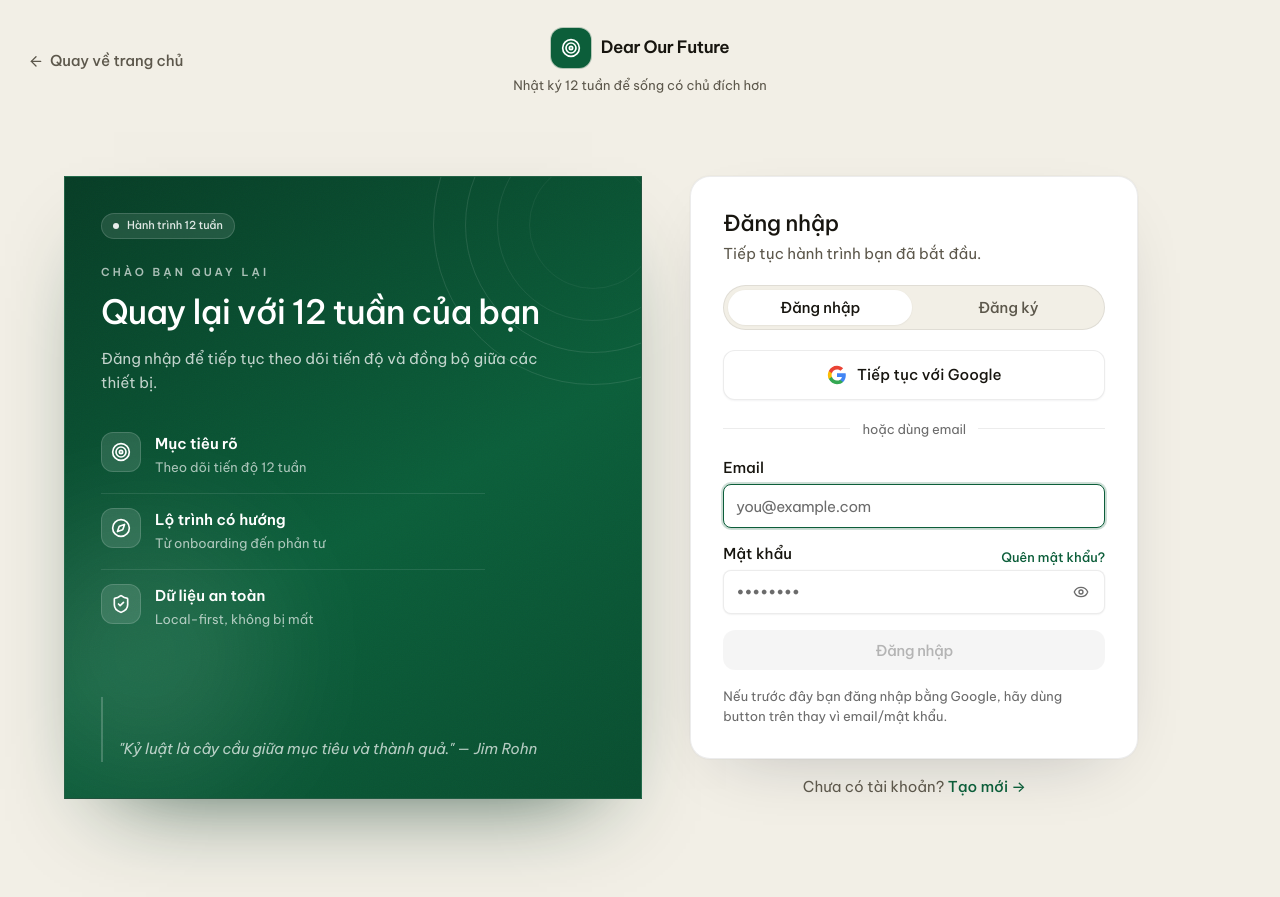
LoginPage › shows actionable missing-account feedback in reset-password card
Click the button "Quên mật khẩu?": [1053, 557] box [1001,548,1105,567]
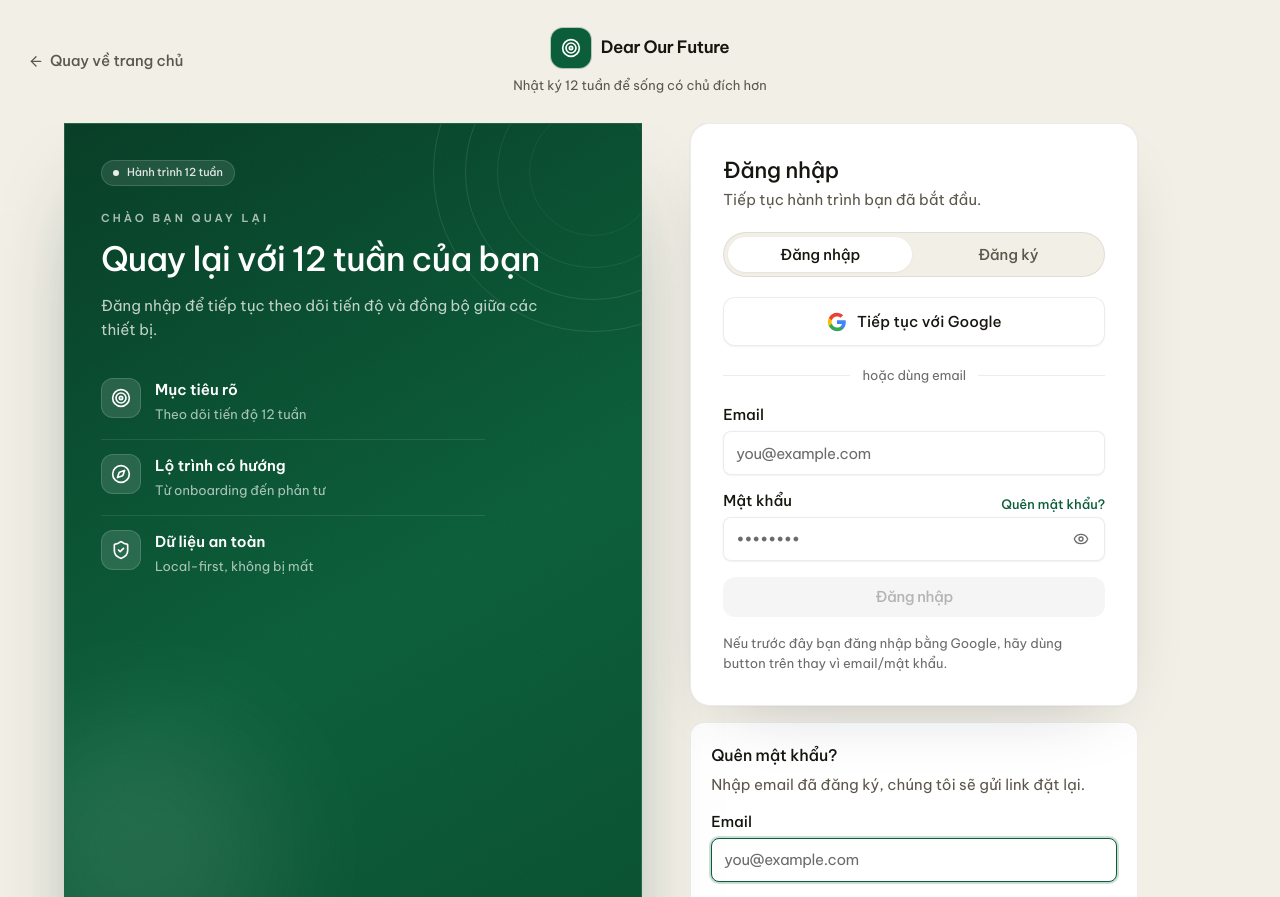
Now the field with id "reset-email" is shown
In the field with id "reset-email": [914, 860] box [711,838,1117,882], type "missing@example.test"
(page scrolled)
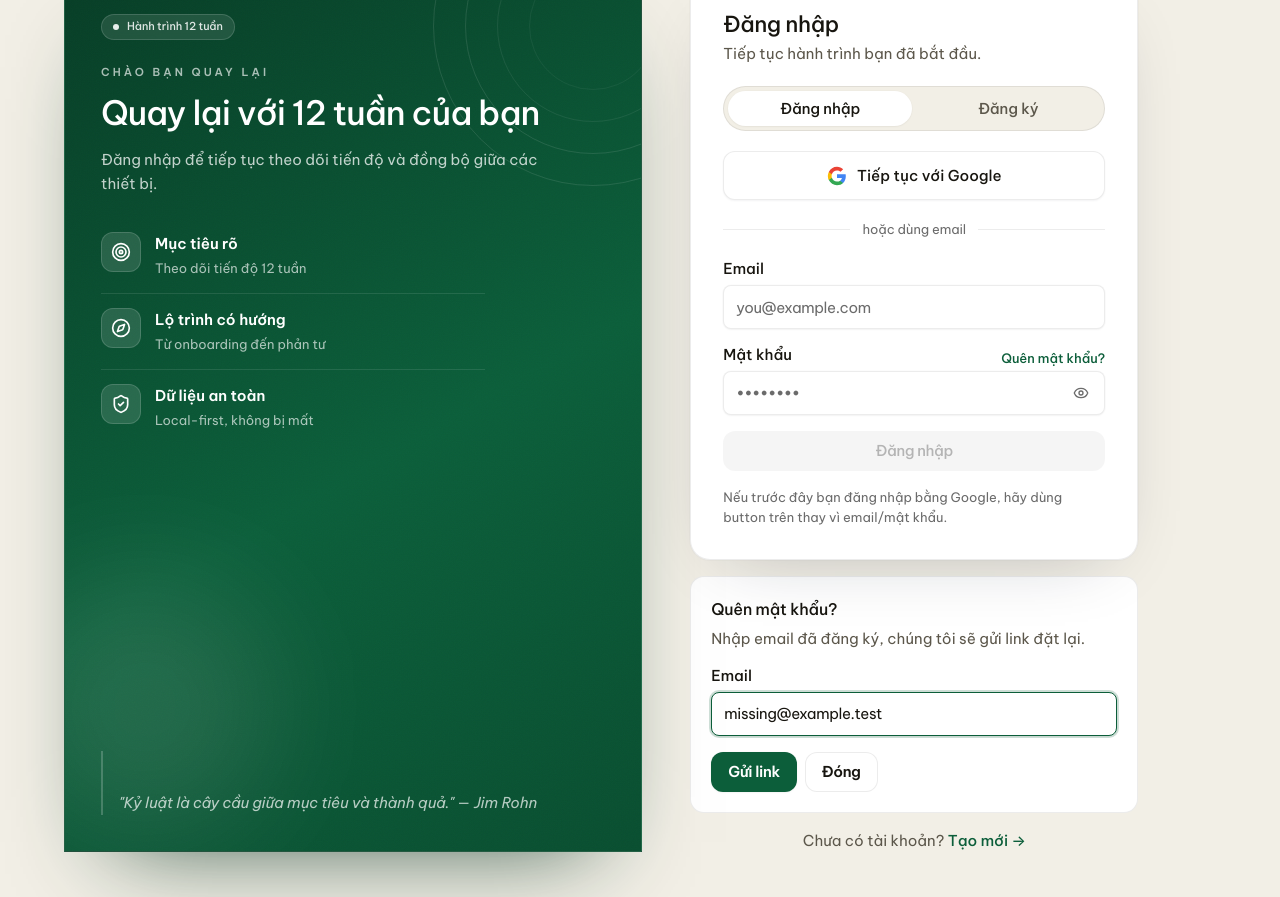
Now the button "Gửi link" is shown
Click the button "Gửi link": [754, 772] box [711,752,797,792]
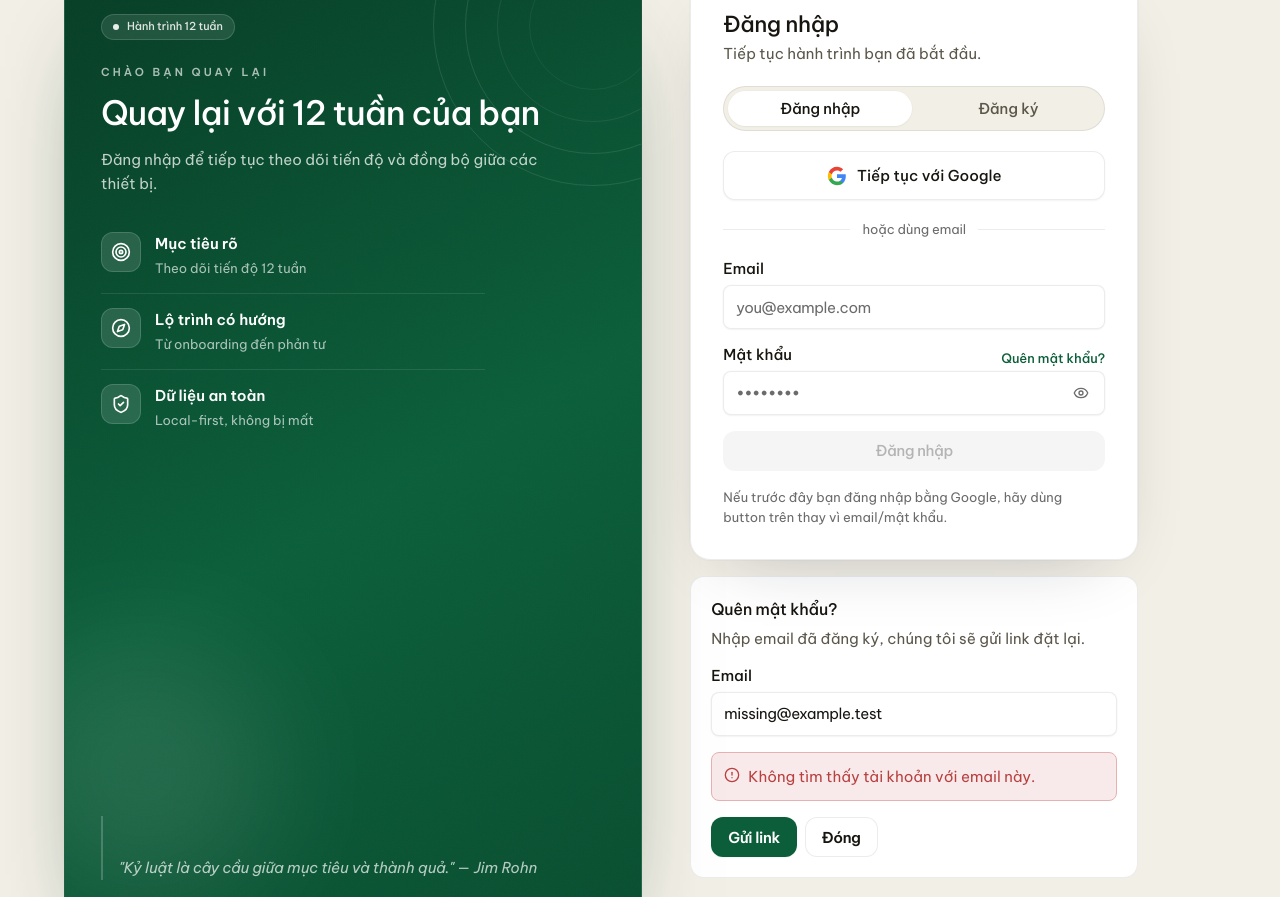
Now the message reads "Không tìm thấy tài khoản với email này.", box [748,767,1035,786]
